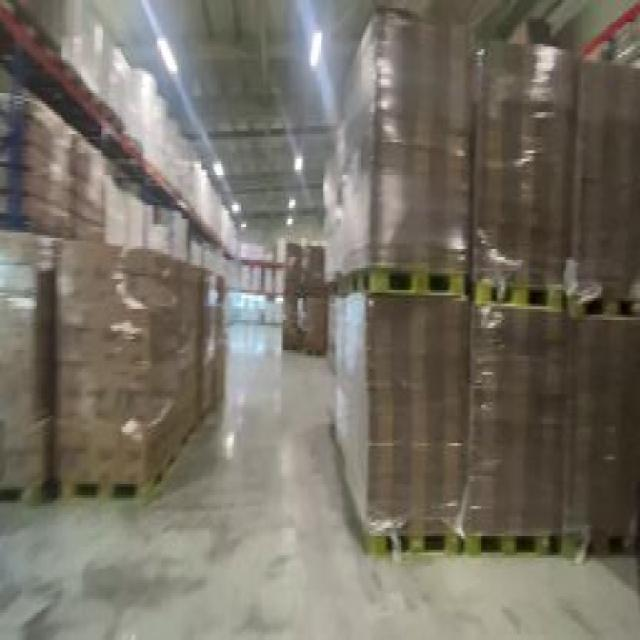box: (318, 27, 638, 577), (0, 224, 234, 520), (3, 98, 100, 260), (277, 238, 331, 356)
white_roll: (111, 33, 154, 158), (154, 90, 192, 208), (195, 161, 240, 252), (239, 238, 283, 328), (102, 178, 146, 246), (148, 197, 192, 260), (192, 236, 230, 284)
